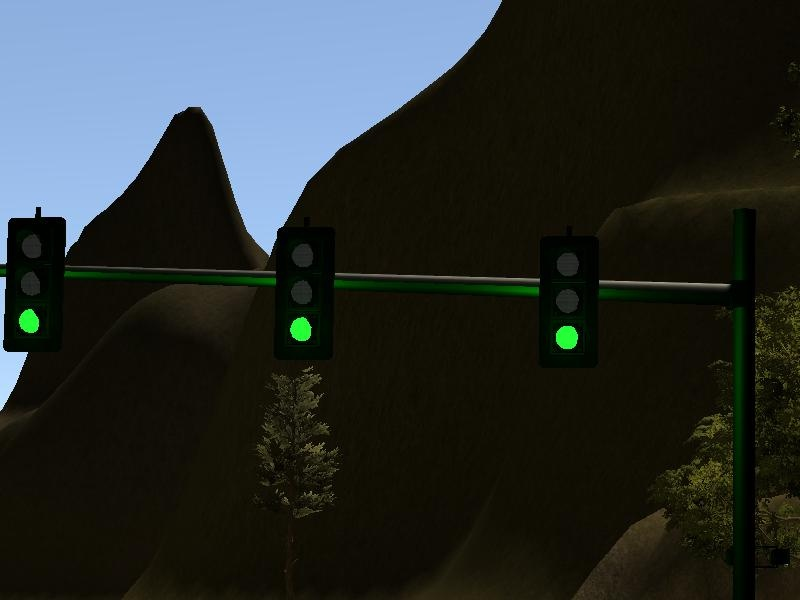Green: (538, 235, 600, 369), (274, 226, 332, 361), (6, 218, 65, 350)
